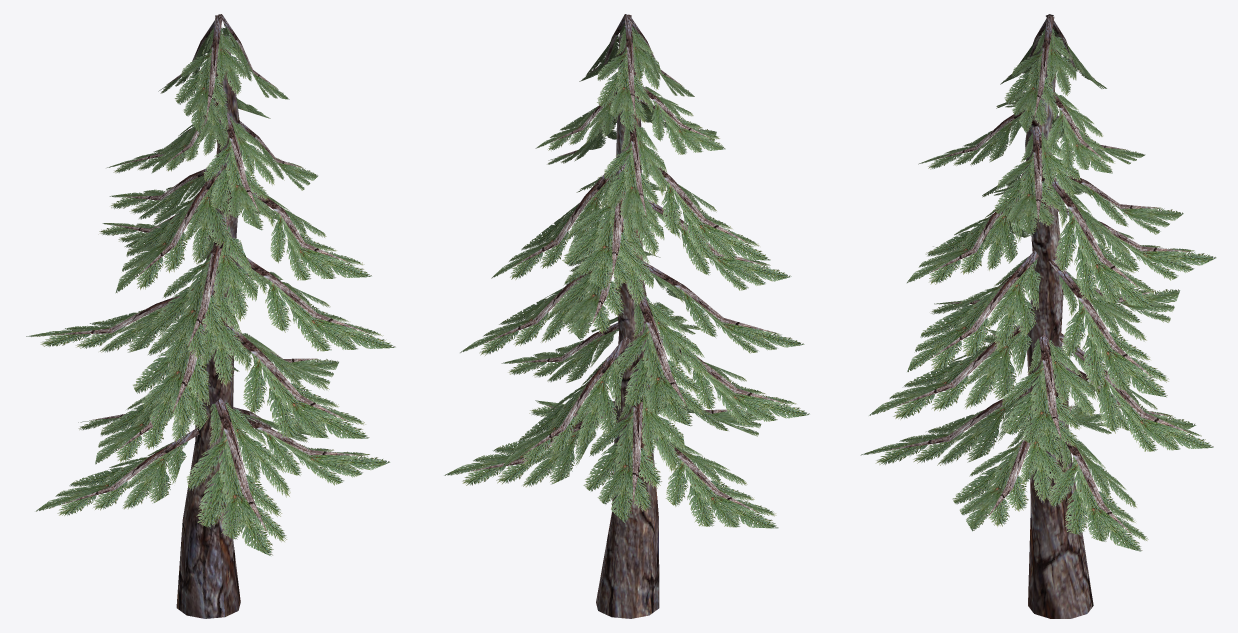
Rendered from Tree_Pine_001.fbx.
3 renders of one model, left to right at view 1: azimuth 30°, elevation 25°; view 2: azimuth 150°, elevation 25°; view 3: azimuth 270°, elevation 25°, orthographic.
Visible parts, largest first — view 1: Tree_Pine_001; view 2: Tree_Pine_001; view 3: Tree_Pine_001.
Part boxes in pixels (left/top/right/bottom): Tree_Pine_001: left=26, top=14, right=395, bottom=618; Tree_Pine_001: left=444, top=14, right=809, bottom=618; Tree_Pine_001: left=860, top=14, right=1216, bottom=618.
Size of the model in its own units: 3.16 by 5.58 by 3.2.
Materials: 2 (2 with a texture image).
